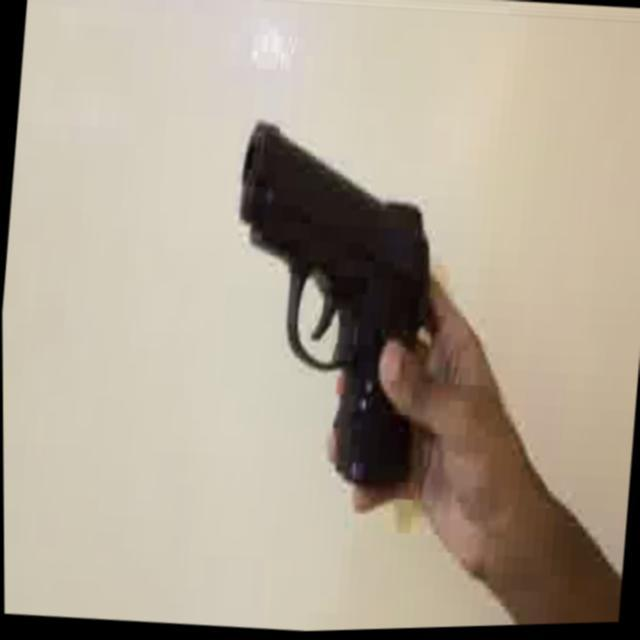weapon: (213, 111, 452, 498)
